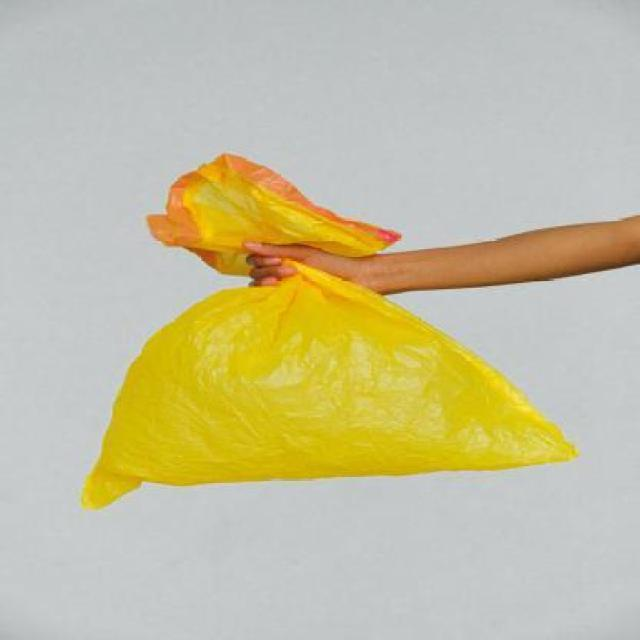plastic bag: (79, 150, 596, 508)
